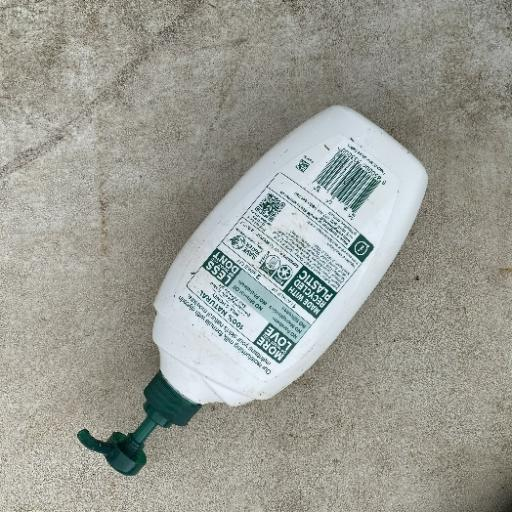Plastic: (75, 102, 430, 476)
